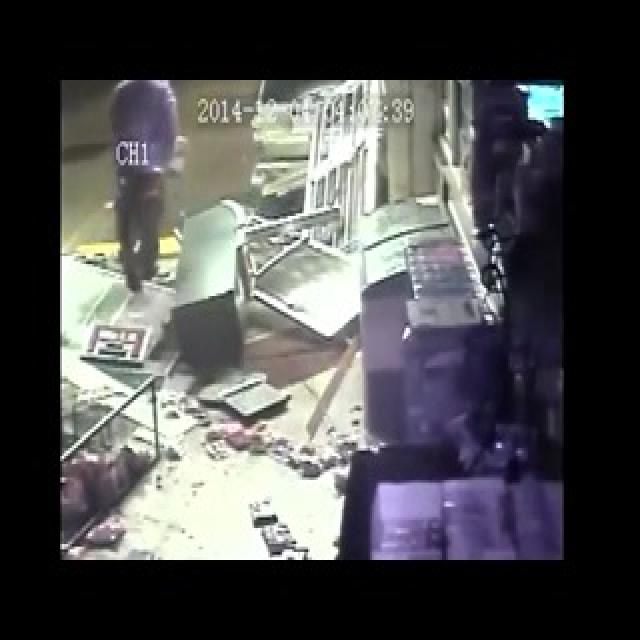thief: (110, 86, 187, 281)
